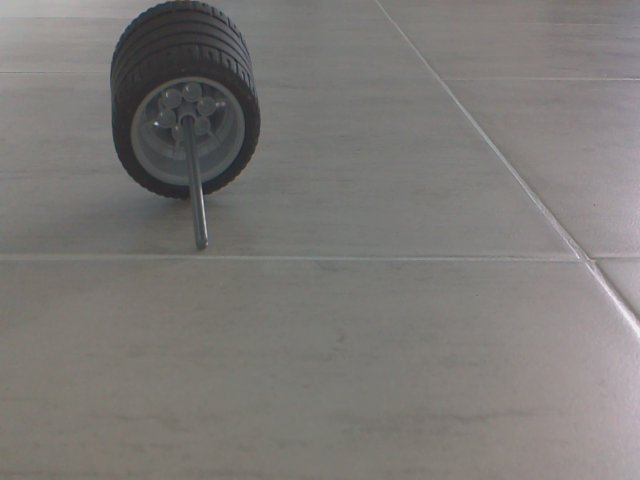Rad+Grau_lang: (108, 4, 262, 252)
